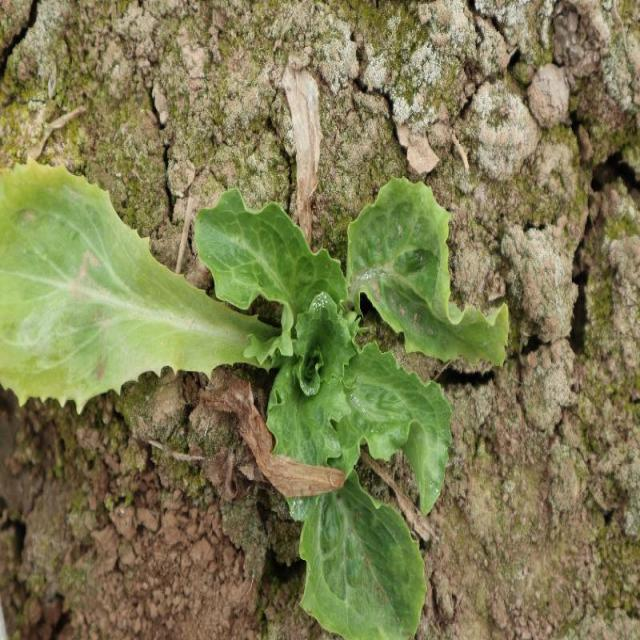crop: (2, 162, 510, 640)
